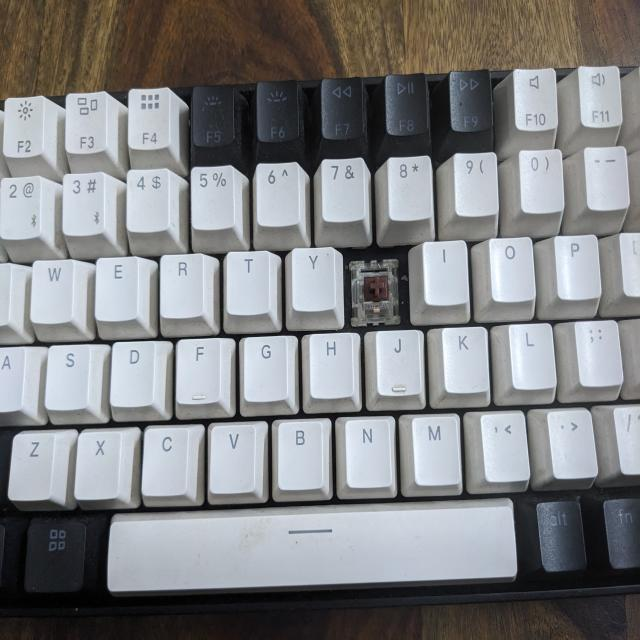C: (349, 254, 401, 319)
